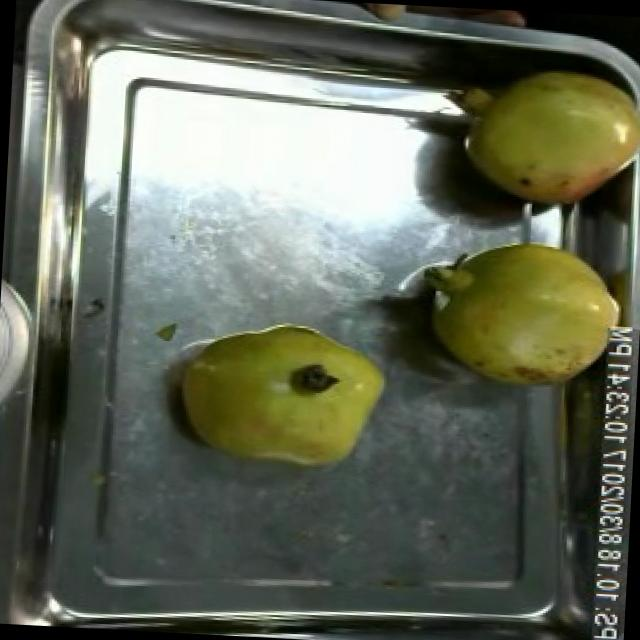fruit: (163, 308, 397, 484), (411, 225, 637, 400), (438, 56, 640, 223), (341, 1, 424, 27)
